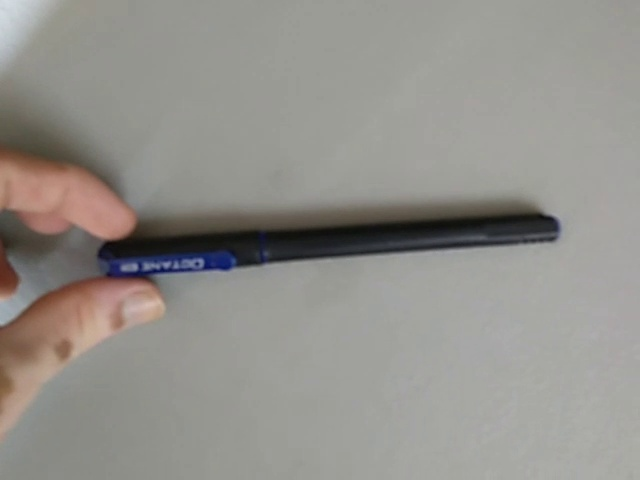Pen: (73, 188, 595, 312)
